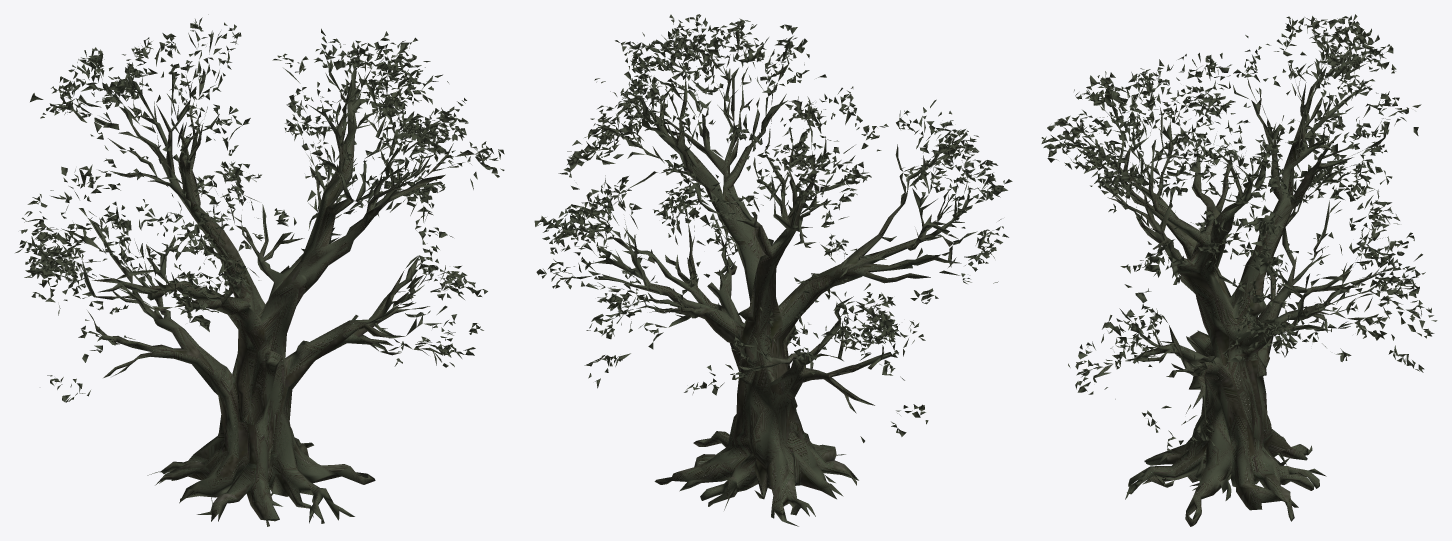
File: tree_world.glb
The picture shows the model from 3 angles, left to right: view 1: azimuth 30°, elevation 25°; view 2: azimuth 150°, elevation 25°; view 3: azimuth 270°, elevation 25°; orthographic projection. The views are drawn at different scales.
Visible parts, largest first — view 1: tree_world; view 2: tree_world; view 3: tree_world.
Part boxes in pixels (box(x1,y1,x2,y2)): tree_world: box(15, 14, 504, 526); tree_world: box(534, 14, 1012, 526); tree_world: box(1041, 14, 1437, 526).
Bounding box in the file's own units: 182 × 181 × 144.
Materials: 1 (1 with a texture image).
